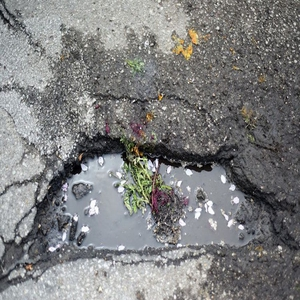pothole: (32, 128, 296, 269)
